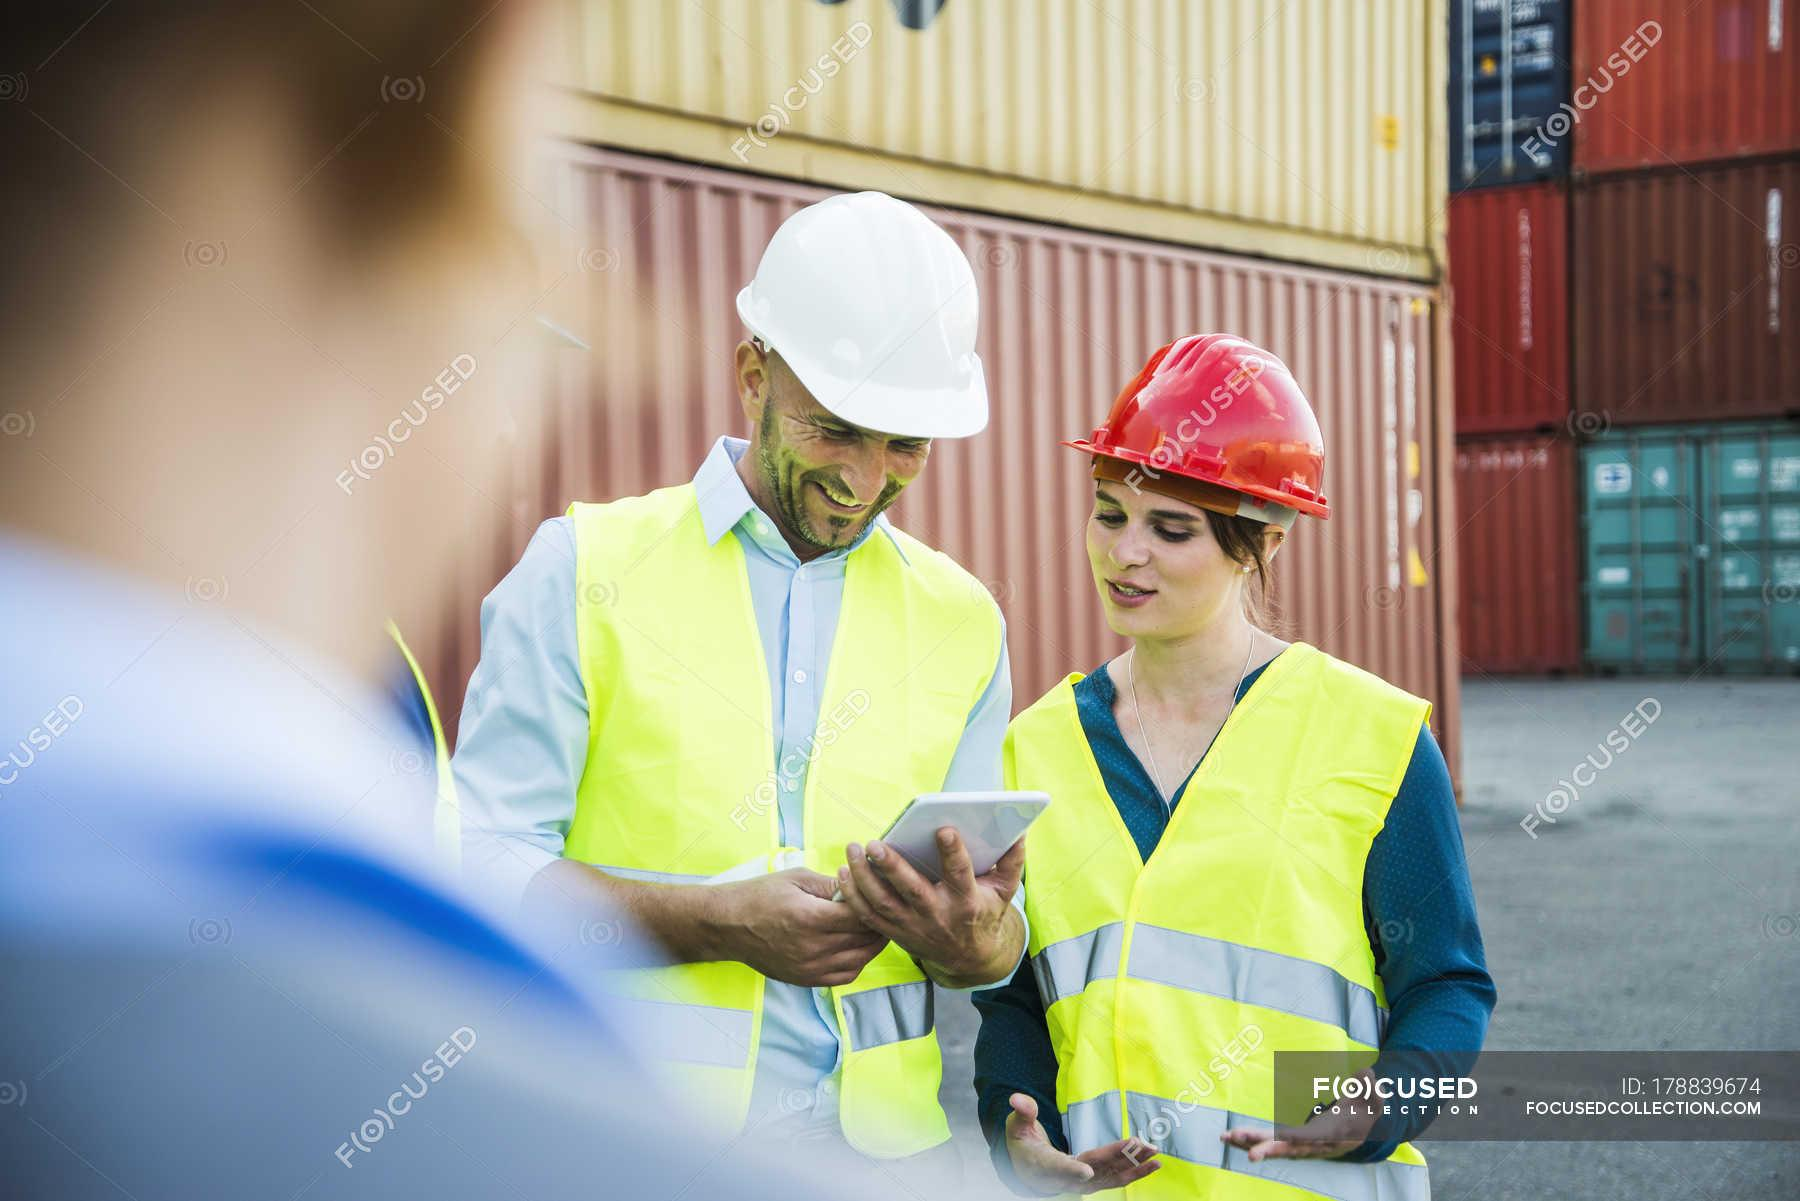helmet: (741, 194, 996, 441), (1066, 319, 1336, 523)
